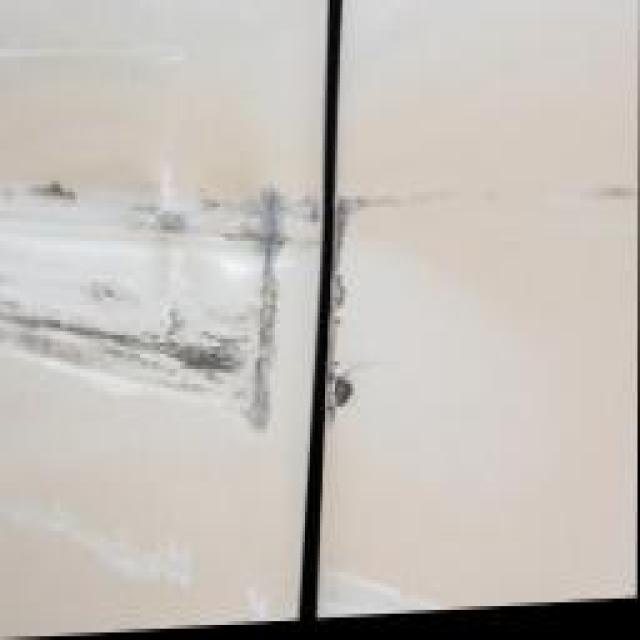Door: (0, 139, 316, 483), (310, 203, 441, 459)
